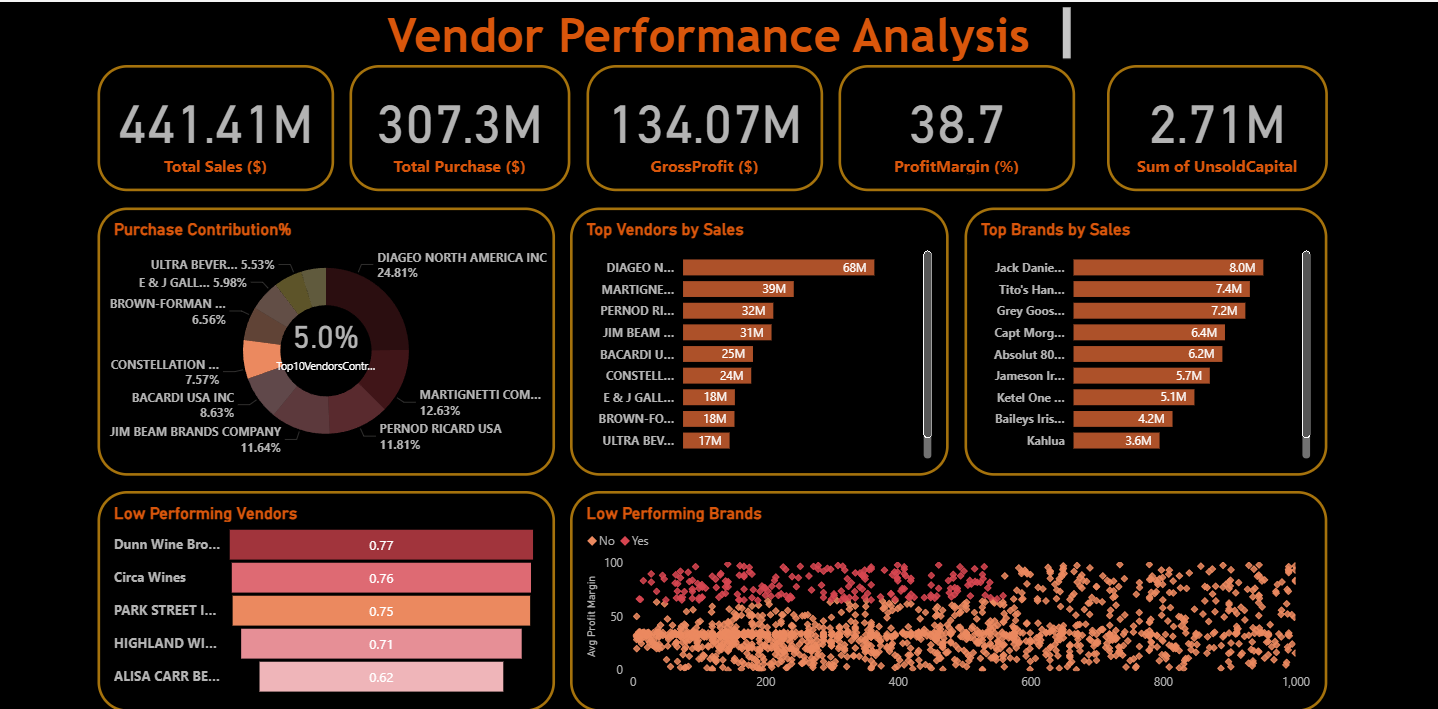

This screenshot's page, from the dashboard's own definition file:
{"tool":"powerbi","page":{"name":"Page 1","canvas":[1280,720],"ordinal":0},"visuals":[{"type":"card","fields":{"Values":["Sum(vendor_sales_summary.TotalSalesDollars)"]},"box":[16,64,240,128],"z":0},{"type":"card","fields":{"Values":["Sum(vendor_sales_summary.TotalPurchaseDollars)"]},"box":[272,64,224,128],"z":1000},{"type":"card","fields":{"Values":["Sum(vendor_sales_summary.GrossProfit)"]},"box":[512,64,240,128],"z":2000},{"type":"card","fields":{"Values":["Avg(vendor_sales_summary.ProfitMargin)"]},"box":[768,64,240,128],"z":3000},{"type":"card","fields":{"Values":["Sum(vendor_sales_summary.UnsoldCapital)"]},"box":[1040,64,224,128],"z":4000},{"type":"textbox","box":[272,0,736,64],"z":5000},{"type":"donutChart","title":"Purchase Contribution% ","fields":{"Category":["purchasecontributions.VendorName"],"Y":["Sum(purchasecontributions.PurchaseContribution%)"]},"box":[16,208,464,272],"z":6000},{"type":"card","fields":{"Values":["purchasecontributions.Top10VendorsContributionPct"]},"box":[192,288,112,112],"z":7000},{"type":"barChart","title":"Top Vendors by Sales","fields":{"Category":["vendor_sales_summary.VendorName"],"Y":["Sum(vendor_sales_summary.TotalSalesDollars)"]},"box":[496,208,384,272],"z":8000},{"type":"barChart","title":"Top Brands by Sales","fields":{"Category":["vendor_sales_summary.Description"],"Y":["Sum(vendor_sales_summary.TotalSalesDollars)"]},"box":[896,208,368,272],"z":9000},{"type":"funnel","title":"Low Performing Vendors","fields":{"Category":["LowTurnoverVendor.VendorName"],"Y":["Avg(LowTurnoverVendor.AvgStockTurnOver)"]},"box":[16,496,464,224],"z":10000},{"type":"scatterChart","title":"Low Performing Brands","fields":{"X":["Sum(BrandPerformance.TotalSales)"],"Category":["BrandPerformance.Description"],"Y":["Sum(BrandPerformance.AvgProfitMargin)"],"Series":["BrandPerformance.TargetBrand"]},"box":[496,496,768,224],"z":11000}]}

Visuals, with their boxes on the page's 1280x720 design canvas (x1, y1, x2, y2). These are canvas units, not pixel positions in the 1438x709 screenshot, which may show the page scaled, cropped or inside an application window:
card - Sum(vendor_sales_summary.TotalSalesDollars): detection(16, 64, 256, 192)
card - Sum(vendor_sales_summary.TotalPurchaseDollars): detection(272, 64, 496, 192)
card - Sum(vendor_sales_summary.GrossProfit): detection(512, 64, 752, 192)
card - Avg(vendor_sales_summary.ProfitMargin): detection(768, 64, 1008, 192)
card - Sum(vendor_sales_summary.UnsoldCapital): detection(1040, 64, 1264, 192)
textbox: detection(272, 0, 1008, 64)
"Purchase Contribution% " donutChart: detection(16, 208, 480, 480)
card - purchasecontributions.Top10VendorsContributionPct: detection(192, 288, 304, 400)
"Top Vendors by Sales" barChart: detection(496, 208, 880, 480)
"Top Brands by Sales" barChart: detection(896, 208, 1264, 480)
"Low Performing Vendors" funnel: detection(16, 496, 480, 720)
"Low Performing Brands" scatterChart: detection(496, 496, 1264, 720)
